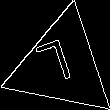L_S: (39, 37, 83, 95)
